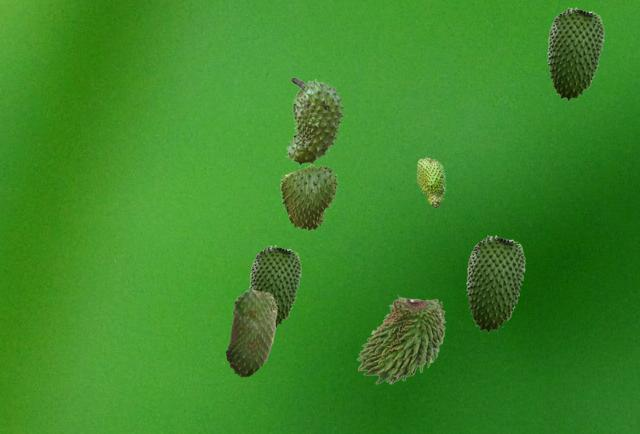guyabano: (356, 294, 445, 383), (466, 235, 524, 332), (285, 77, 346, 166), (547, 7, 603, 100), (225, 288, 277, 377), (249, 245, 300, 328), (280, 164, 338, 231), (416, 157, 445, 207)
